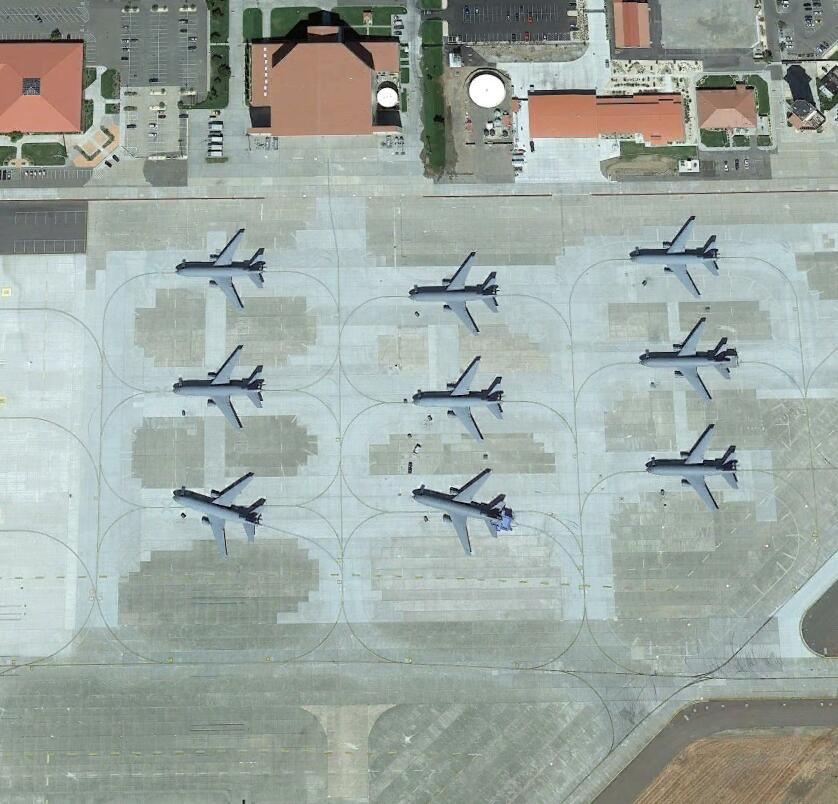A18: (409, 354, 504, 444), (171, 469, 266, 558), (646, 424, 738, 514), (411, 472, 513, 553), (641, 318, 735, 404), (173, 346, 266, 431), (409, 252, 500, 337), (176, 227, 267, 311), (630, 216, 720, 300)
